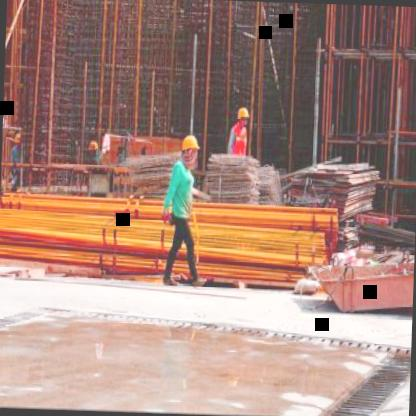helmet: (180, 133, 202, 166), (236, 105, 251, 130), (85, 138, 100, 162), (12, 128, 24, 154)
